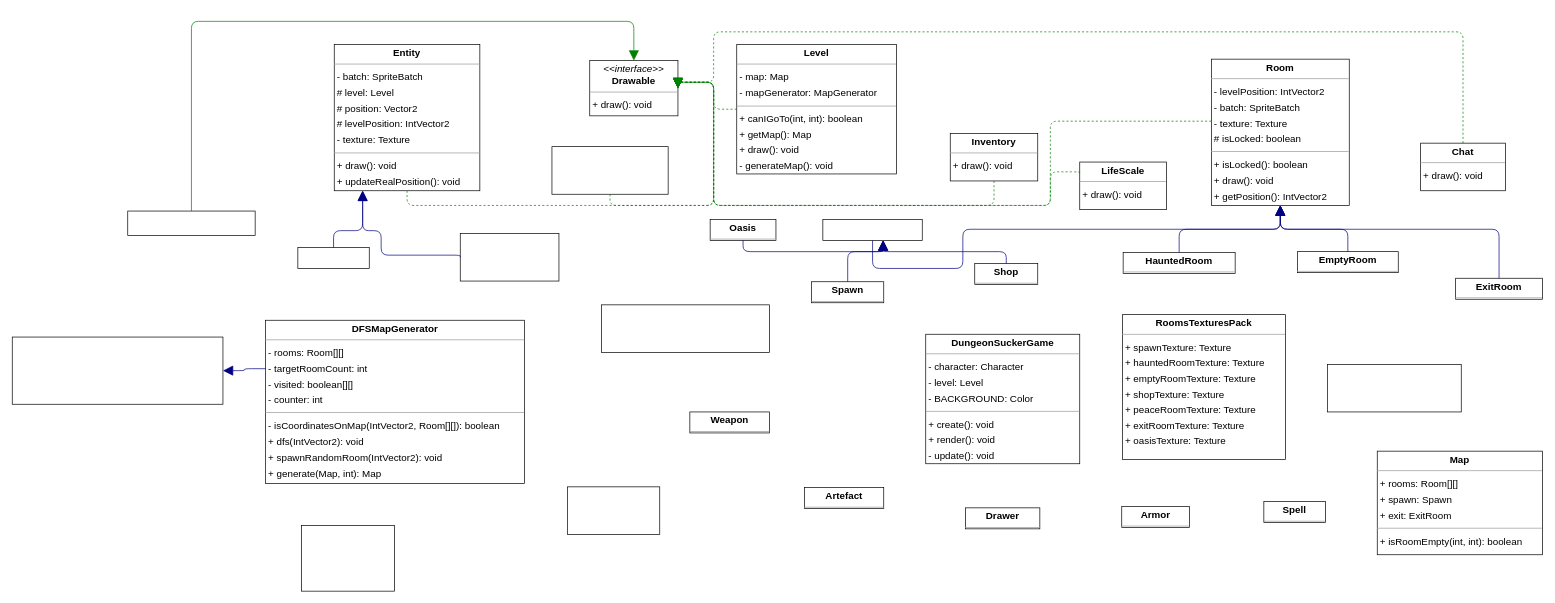
This 1555x603 diagram has some shape labels left out. The box of each missing label's shape, as (x1, y1, x2, y2) in pixels:
<<interface>> LibGDXDrawable: (127, 210, 255, 236)
ArrayTools + shuffleArray(int[]): void: (1327, 364, 1461, 412)
Character + getInput(): void: (460, 233, 559, 281)
Constants + cellSize: int: (567, 486, 660, 534)
Enemy: (297, 247, 369, 268)
IntVector2 + x: int + y: int: (301, 525, 394, 591)
MapGenerator # roomsTexturesPack: RoomsTexturesPack + generate(Map, int): Map: (12, 336, 223, 404)
MovesCounter + draw(): void: (551, 146, 668, 194)
PeaceRoom: (822, 219, 922, 240)
RandomNumGenerator + generateFromRange(int, int): int: (601, 304, 770, 352)
